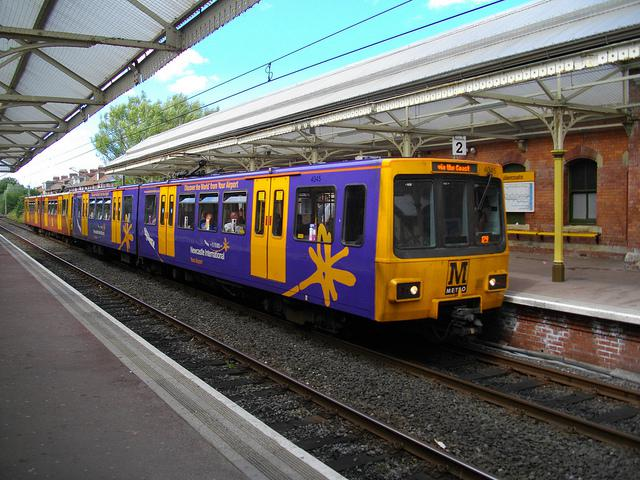Train: (21, 159, 510, 344)
